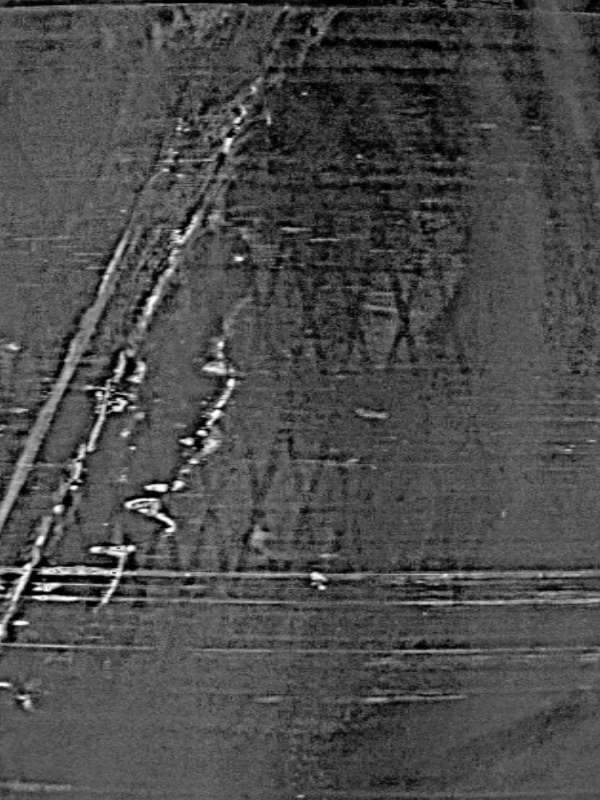splice_vulcanized: (1, 6, 291, 648)
